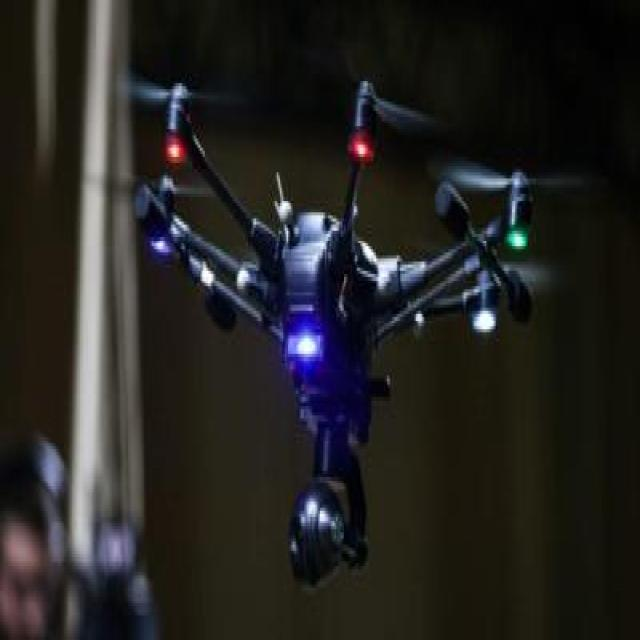drone: (85, 72, 591, 598)
